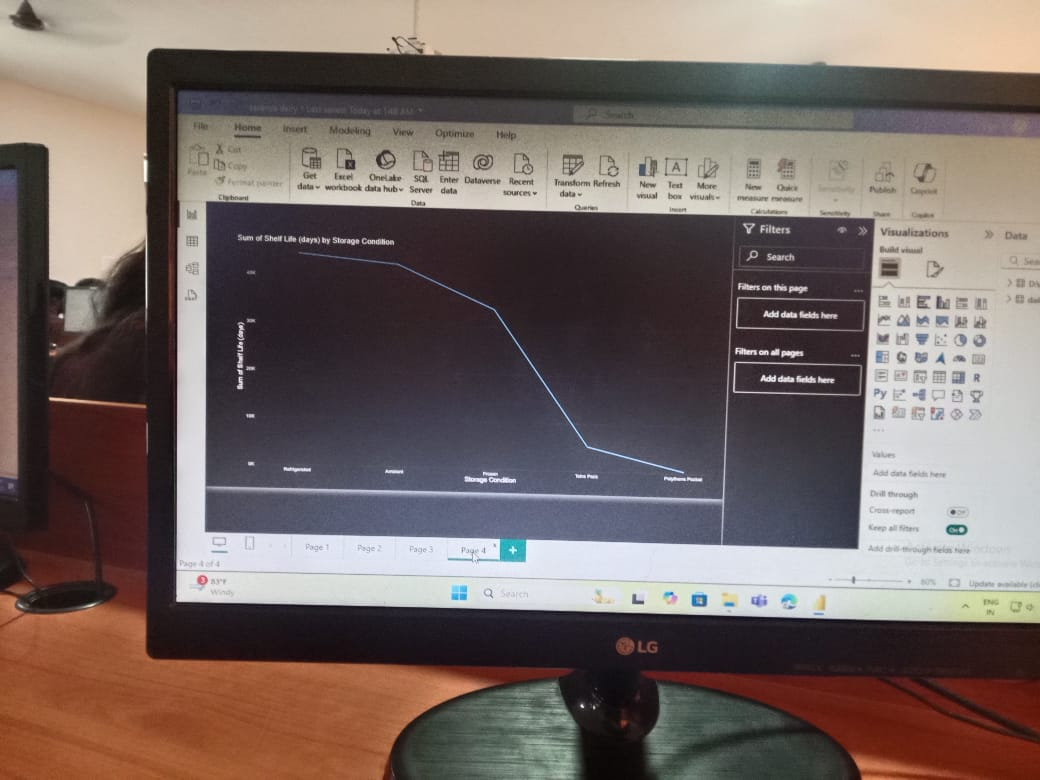

Layout of this report page (visuals, bound fields, positions):
{"tool":"powerbi","page":{"name":"Page 4","canvas":[1280,720],"ordinal":3},"visuals":[{"type":"lineChart","fields":{"Category":["D:\\daily files\\_dairy_dataset csv.Storage Condition"],"Y":["D:\\daily files\\_dairy_dataset csv.Shelf Life (days)"]},"box":[70.6,77.3,1209.4,623.2],"z":0}]}

Visuals, with their boxes on the page's 1280x720 design canvas (x1, y1, x2, y2). These are canvas units, not pixel positions in the 1040x780 screenshot, which may show the page scaled, cropped or inside an application window:
lineChart - D:\daily files\_dairy_dataset csv.Storage Condition x D:\daily files\_dairy_dataset csv.Shelf Life (days): region(71, 77, 1280, 700)
